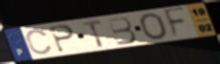B: (106, 16, 139, 47)
C: (25, 28, 54, 56)
F: (162, 5, 188, 41)
O: (138, 12, 170, 41)
P: (48, 24, 77, 54)
T: (81, 19, 106, 49)
